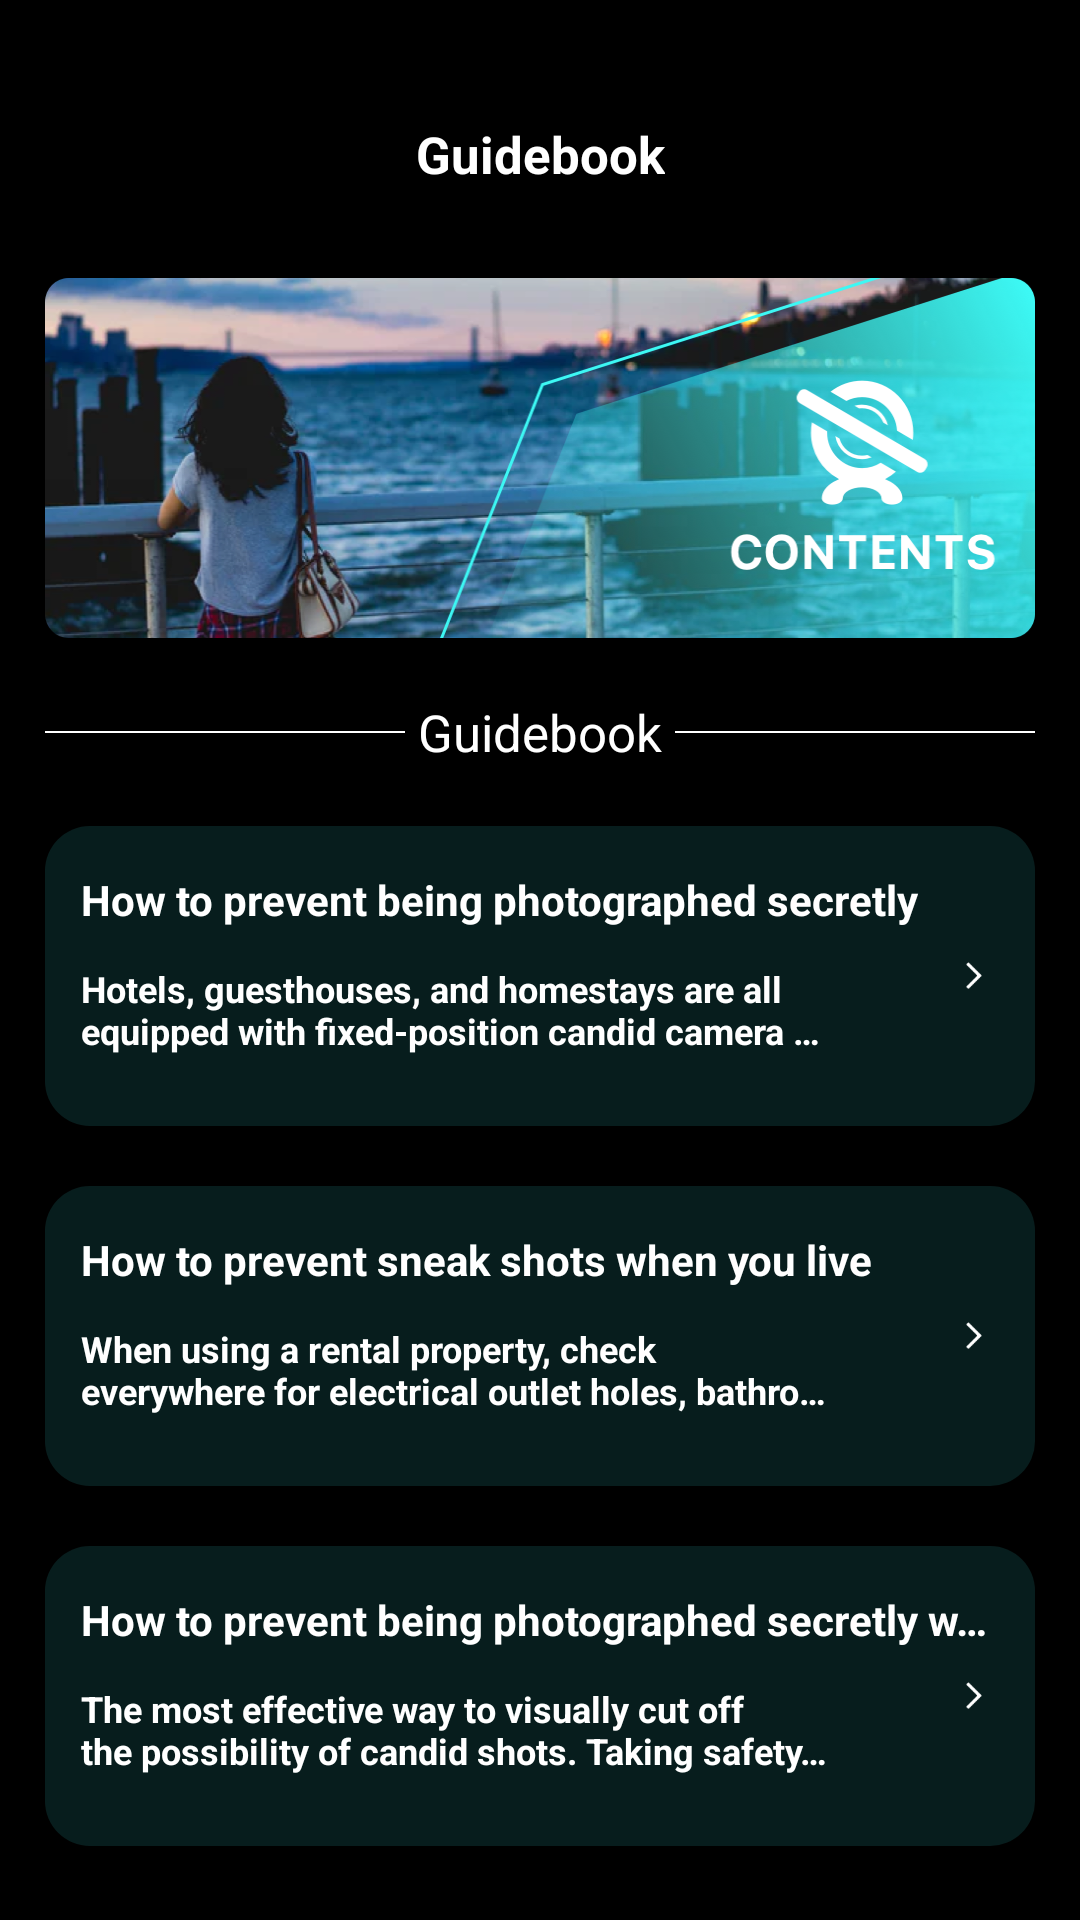

Locate icon controls on the screen. Image size 1080 x 1920, boxes as box=[x1, y1, x2, y2].
next: box=[966, 962, 982, 989], box=[966, 1322, 982, 1349], box=[966, 1682, 982, 1709]
